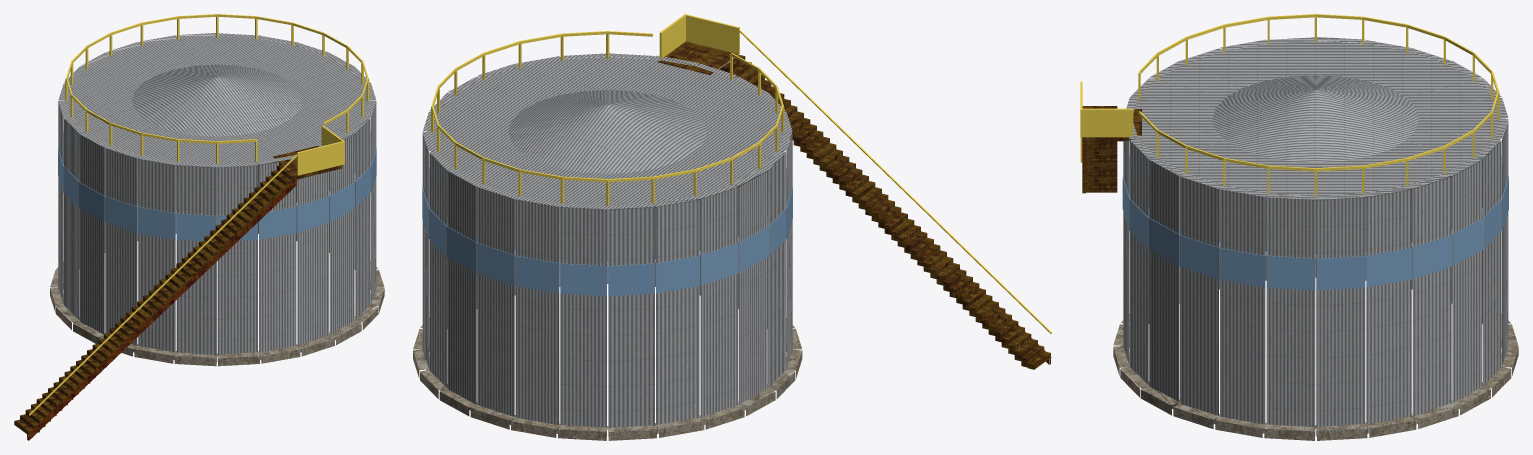
Rendered from ew-tank-grey.zfix-v14.lod0.glb.
3 renders of one model, left to right at view 1: azimuth 30°, elevation 25°; view 2: azimuth 150°, elevation 25°; view 3: azimuth 270°, elevation 25°, orthographic. The views are drawn at different scales.
Visible parts, largest first — view 1: ew-tank-grey; view 2: ew-tank-grey; view 3: ew-tank-grey.
Part boxes in pixels (left/top/right/bottom): ew-tank-grey: left=14, top=14, right=384, bottom=440; ew-tank-grey: left=413, top=14, right=1051, bottom=440; ew-tank-grey: left=1080, top=14, right=1518, bottom=440.
Size of the model in its own units: 20.77 by 10.35 by 15.13.
Materials: 4 (3 with a texture image).
